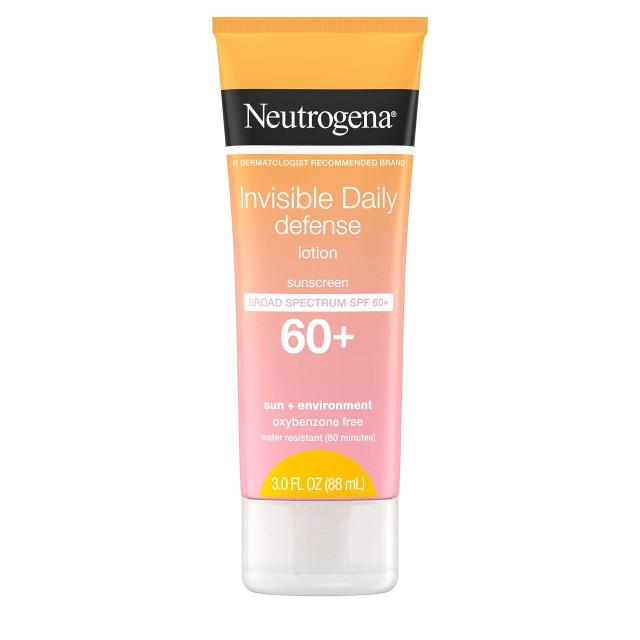lotion-moisture: (216, 23, 412, 582)
